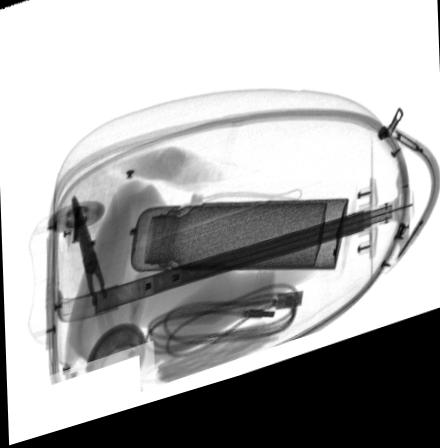Scissors: (69, 196, 139, 368)
